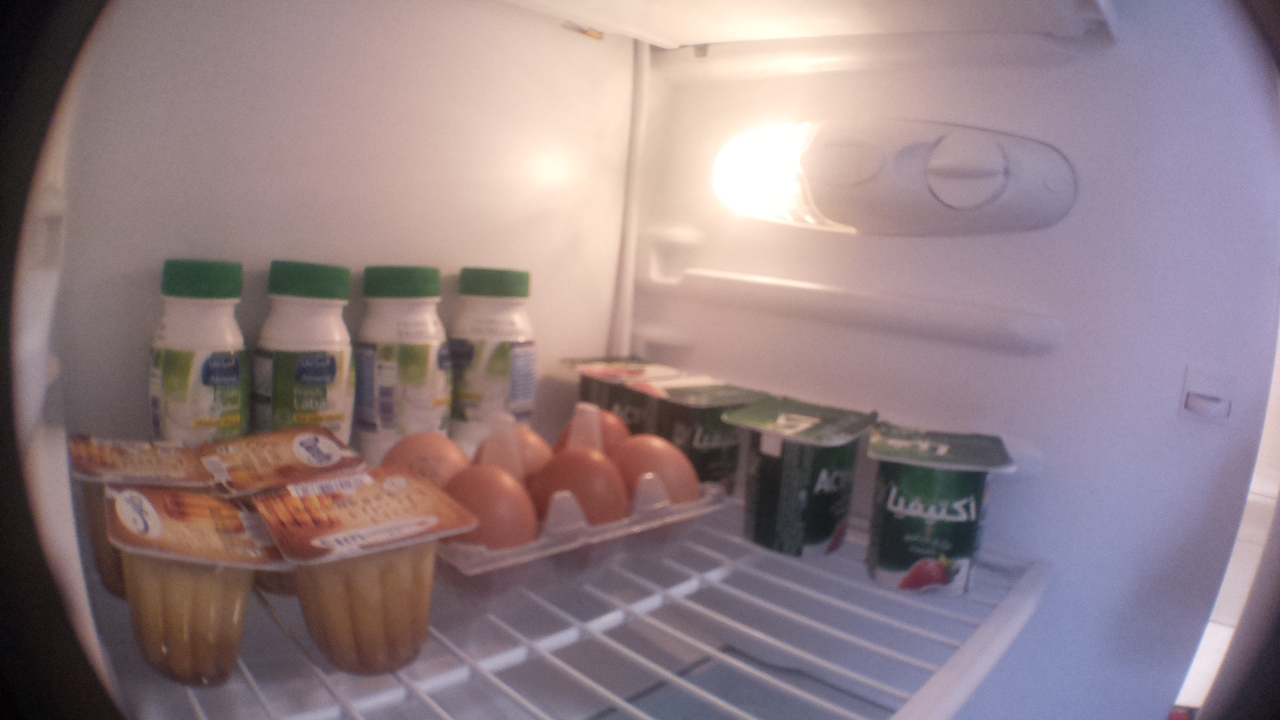caramel: (96, 479, 285, 689), (268, 469, 451, 683), (67, 429, 214, 491), (199, 434, 366, 483)
egg: (530, 444, 632, 583), (440, 461, 540, 597), (622, 435, 705, 580), (472, 413, 549, 478), (378, 429, 468, 477), (558, 399, 629, 453)
laban: (142, 254, 259, 444), (256, 254, 360, 430), (358, 261, 451, 433), (451, 264, 545, 417)
yoghurt: (863, 411, 1021, 604), (724, 383, 878, 562), (630, 377, 778, 452), (553, 346, 673, 404)
